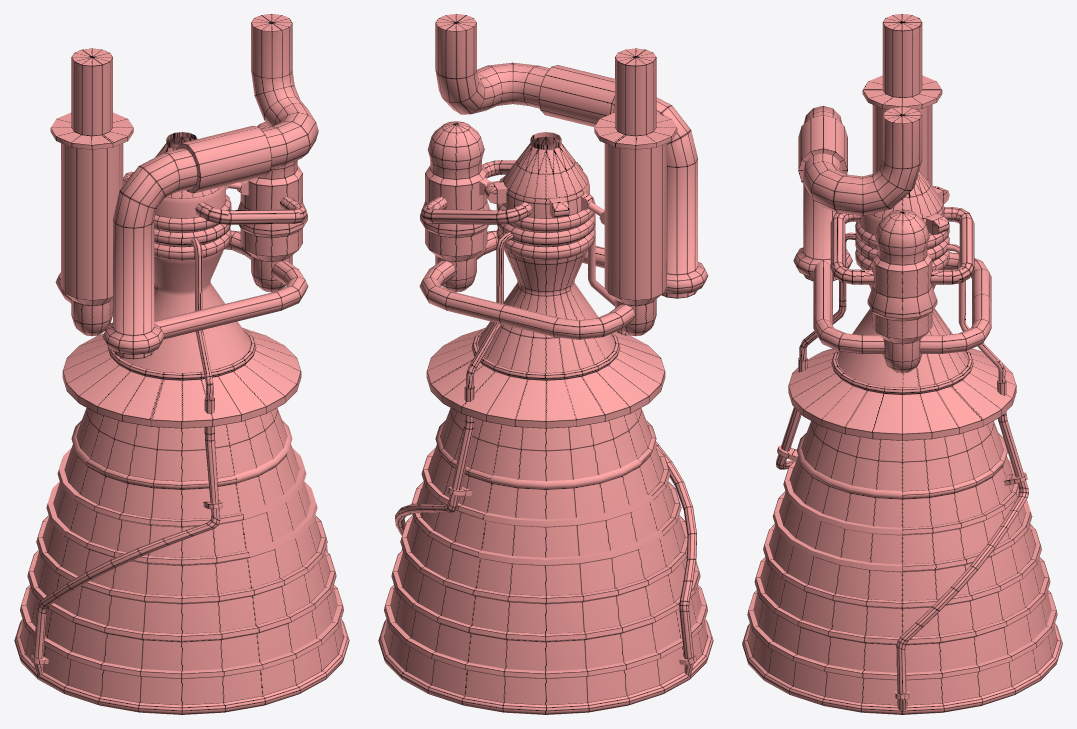
Rendered from rotanev_lv_engine_s1p5_2.obj.
The picture shows the model from 3 angles, left to right: view 1: azimuth 30°, elevation 25°; view 2: azimuth 150°, elevation 25°; view 3: azimuth 270°, elevation 25°; orthographic projection. The views are drawn at different scales.
Visible parts, largest first — view 1: 1; view 2: 1; view 3: 1.
Part boxes in pixels (left/top/right/bottom): 1: left=14, top=14, right=349, bottom=714; 1: left=378, top=14, right=713, bottom=714; 1: left=742, top=14, right=1062, bottom=714.
Size of the model in its own units: 1.67 by 3.25 by 1.62.
1 material, 1 textured.
